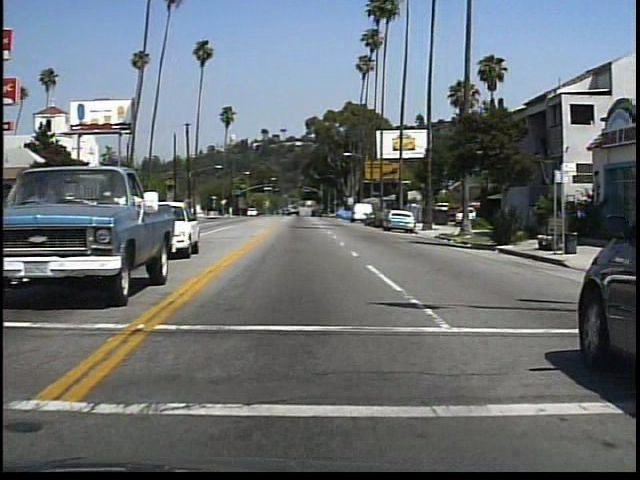person: (505, 198, 529, 249)
